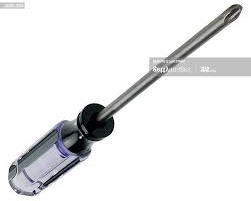Screwdriver: (8, 5, 249, 198)
